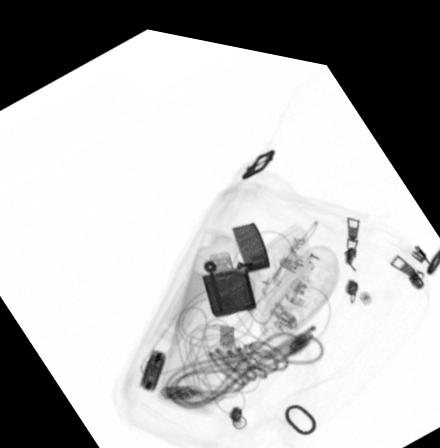Lighter: (200, 210, 270, 309)
